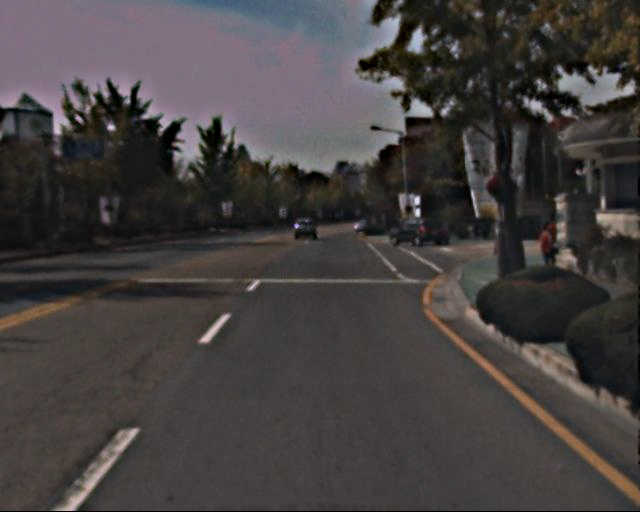person: (536, 221, 561, 283)
